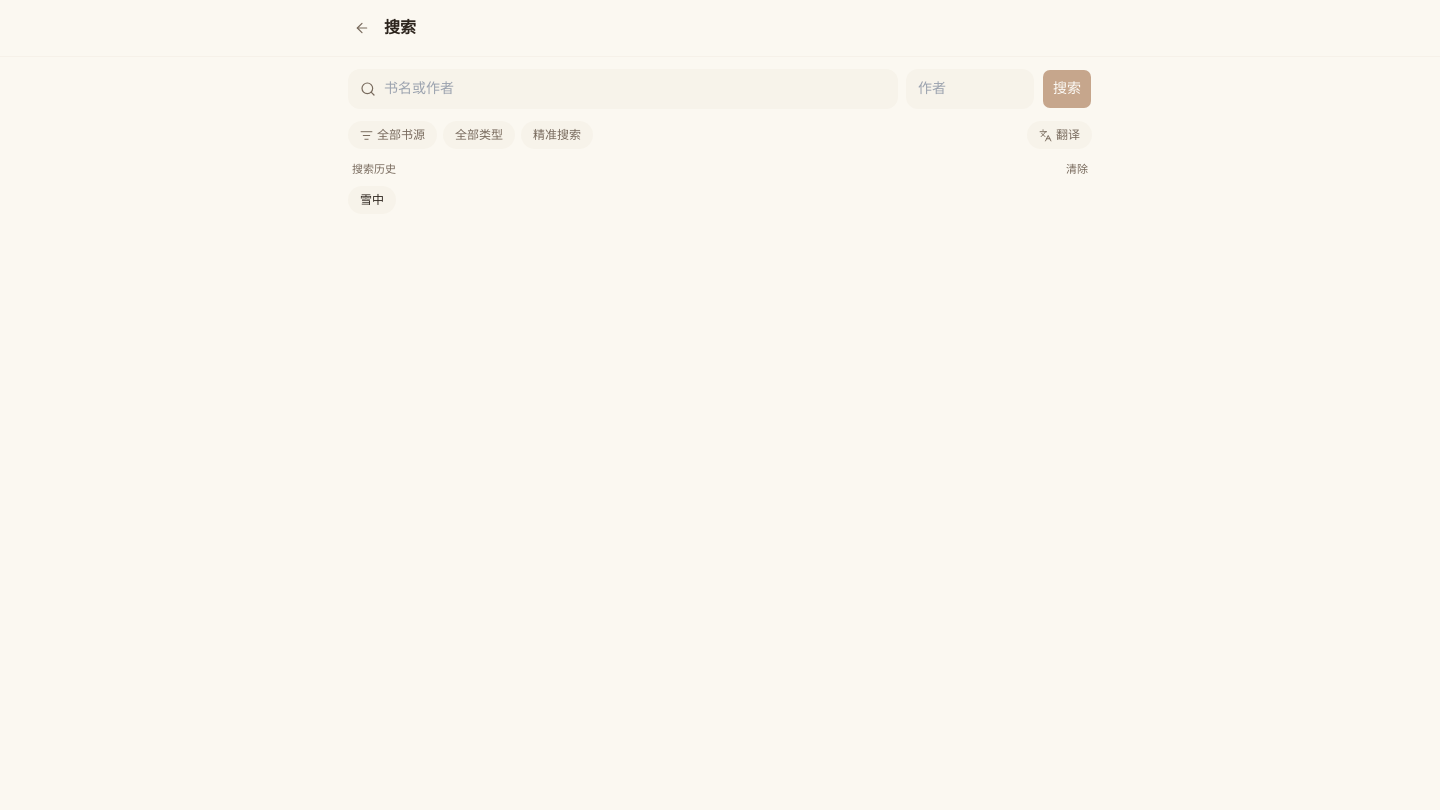
Test case: online search › keeps the keyword history and searches a remembered keyword
What coordinates should you click on to do the following:
click the button "雪中"
I would click on:
 (372, 200)
Its box is [348, 186, 396, 214].
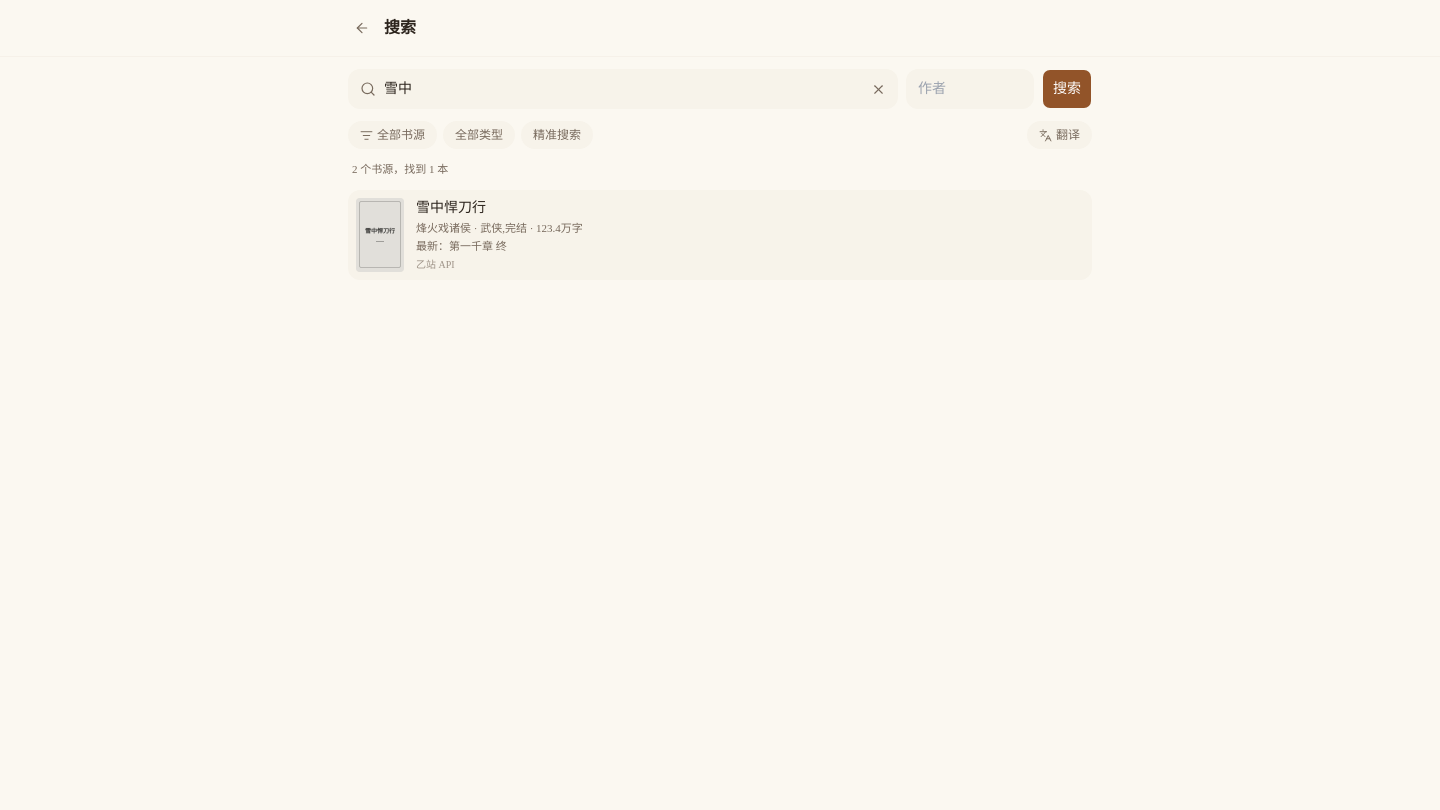
Expected: the 2nd text "雪中悍刀行" is shown, [365, 227, 395, 236]
